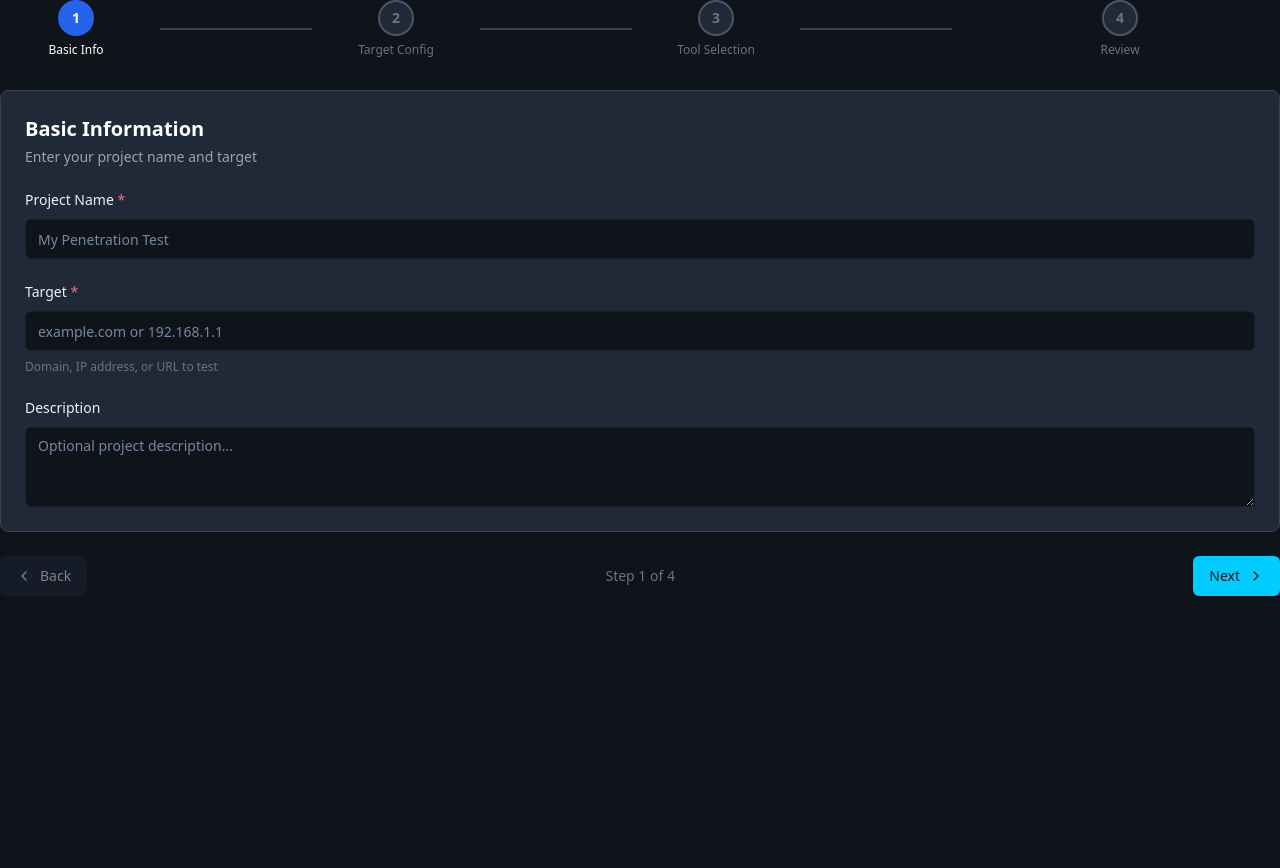
it: ProjectWizard › proceeds to step 2 when step 1 fields are valid
Type "My Pentest" into the field labelled "Project Name *". click: point(640, 239)
box: [25, 219, 1255, 259]
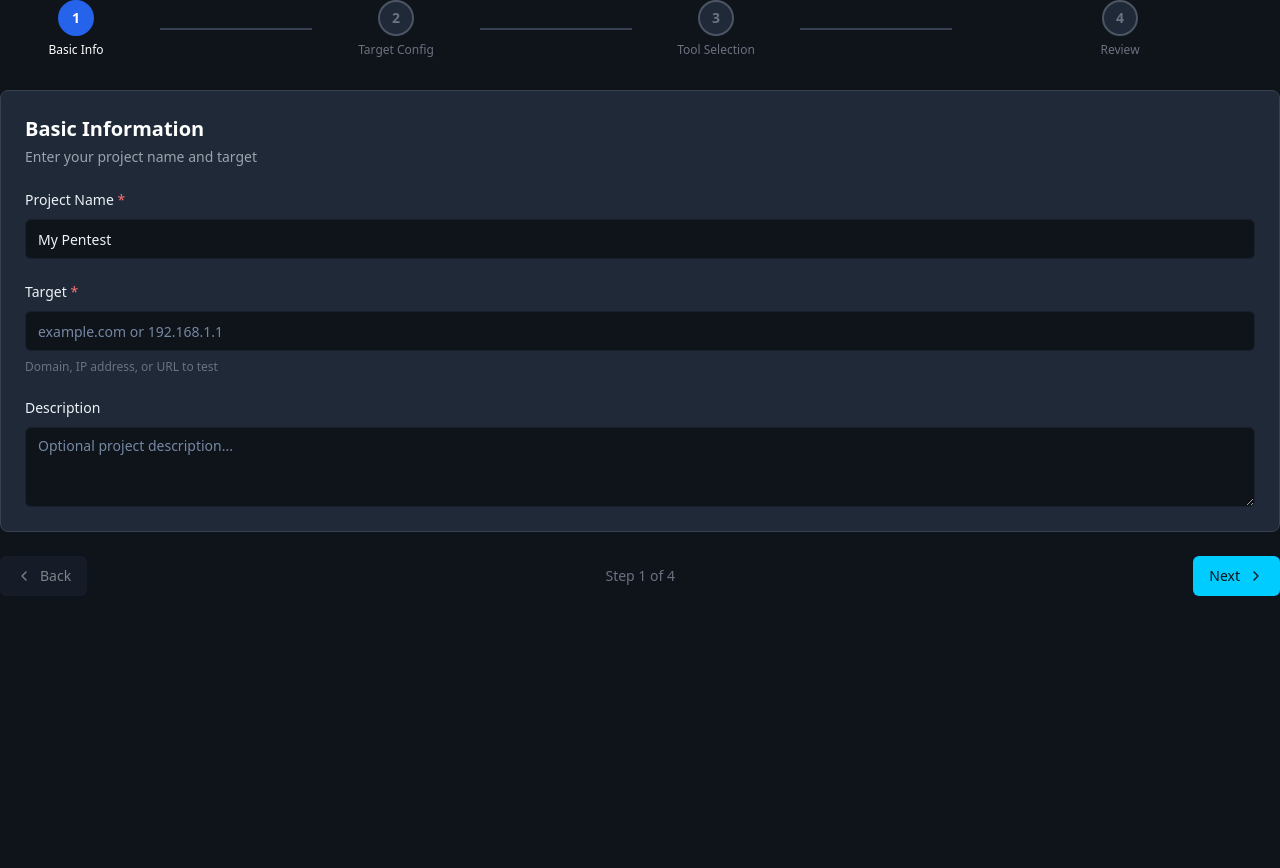
Type "example.com" into the field labelled "Target *". click: point(640, 331)
box: [25, 311, 1255, 351]
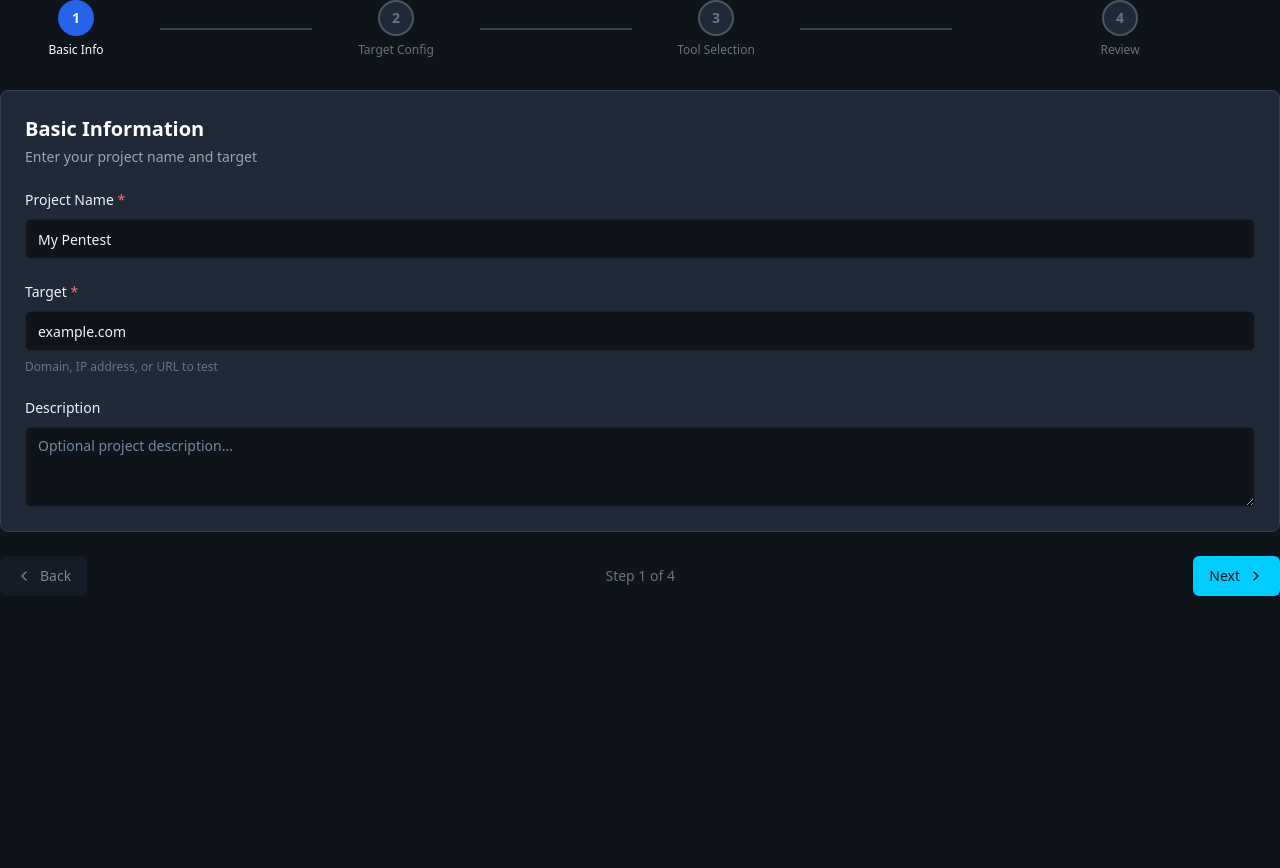
Click the button with aria-label "go to next step". click: point(1237, 576)
box: [1193, 556, 1279, 596]
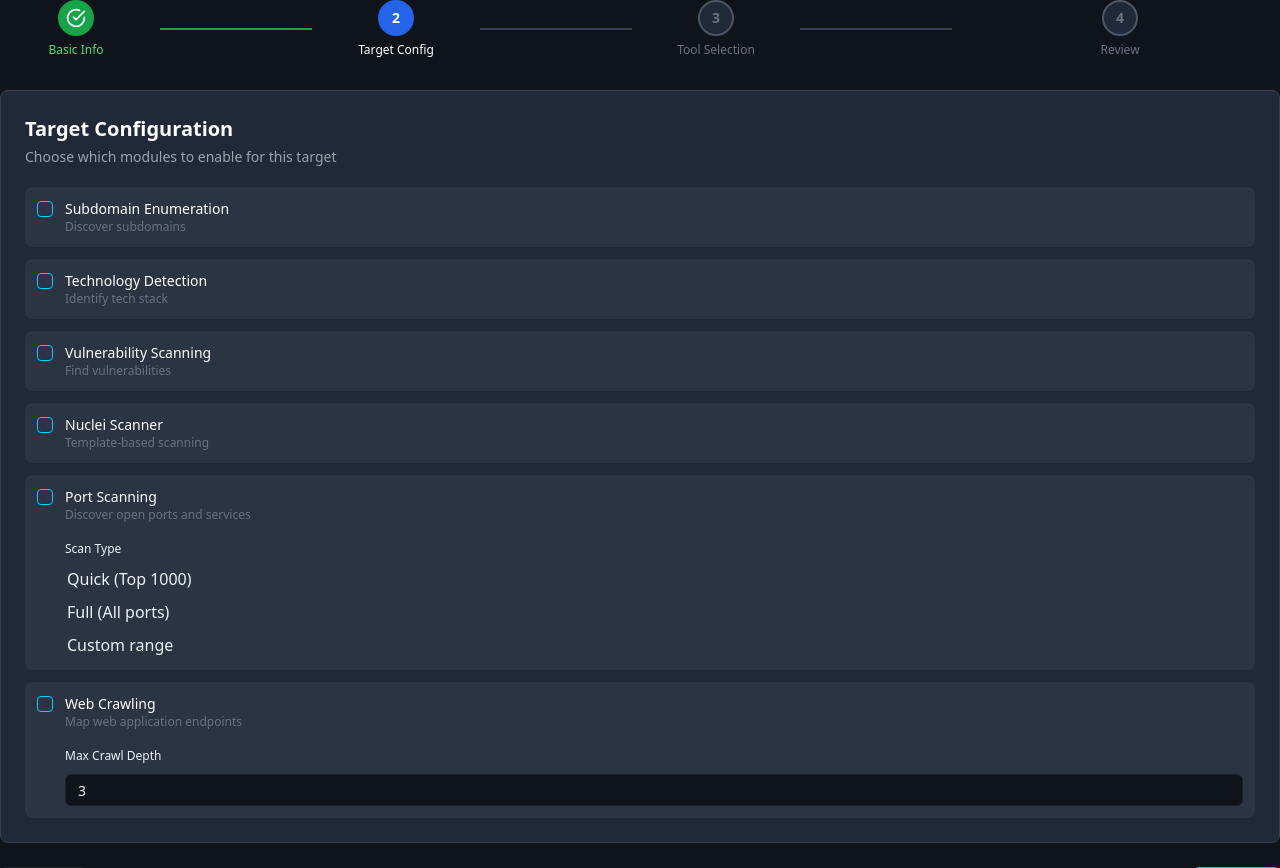
Expected: the heading "Target Configuration" is shown, [25, 115, 233, 142]
